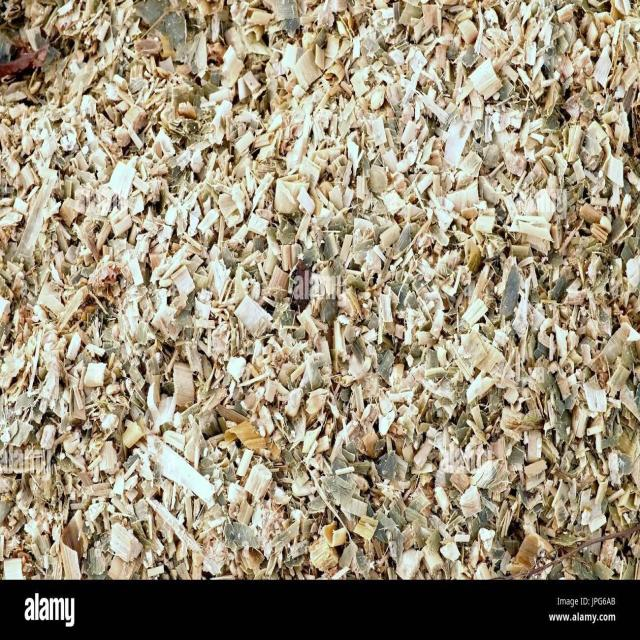dry_waste: (4, 0, 323, 513), (351, 14, 622, 541)
